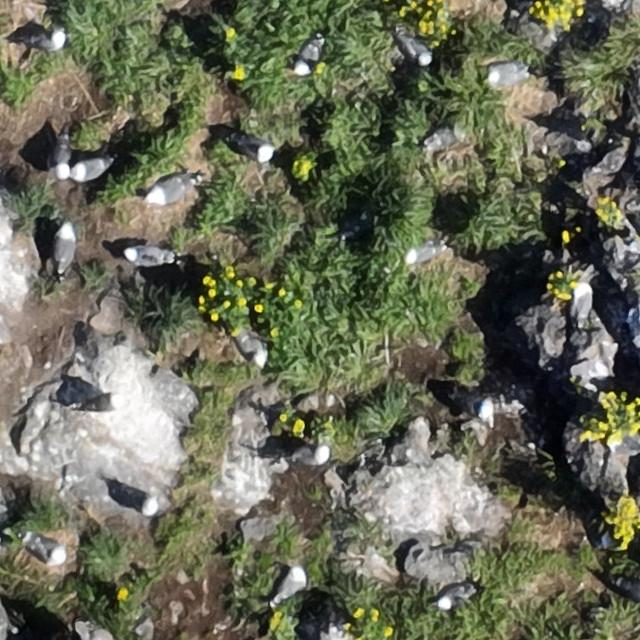umineko: (117, 482, 165, 516), (147, 178, 190, 204), (30, 537, 67, 563), (402, 36, 432, 66), (278, 568, 307, 599), (234, 136, 273, 159), (71, 158, 110, 180), (55, 226, 75, 268), (488, 62, 526, 84), (124, 245, 165, 265), (240, 335, 266, 365), (296, 37, 318, 72), (289, 445, 329, 464), (31, 33, 67, 52), (574, 284, 592, 321), (405, 242, 440, 261), (437, 586, 467, 608), (80, 395, 118, 412), (53, 142, 70, 178), (620, 580, 640, 601)
